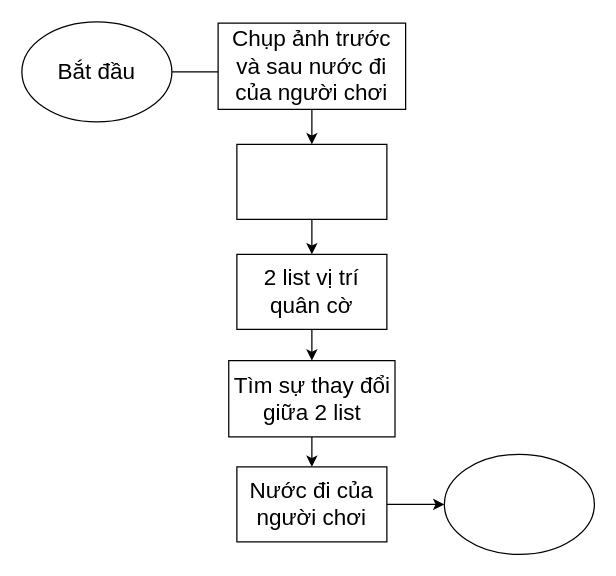
Image size: 616x576. Some labels were removed from this diagram. Each missing label, with the box of its shape:
Kết thúc: (443, 453, 594, 554)
Nhận diện vị trí quân cờ: (236, 143, 387, 219)
